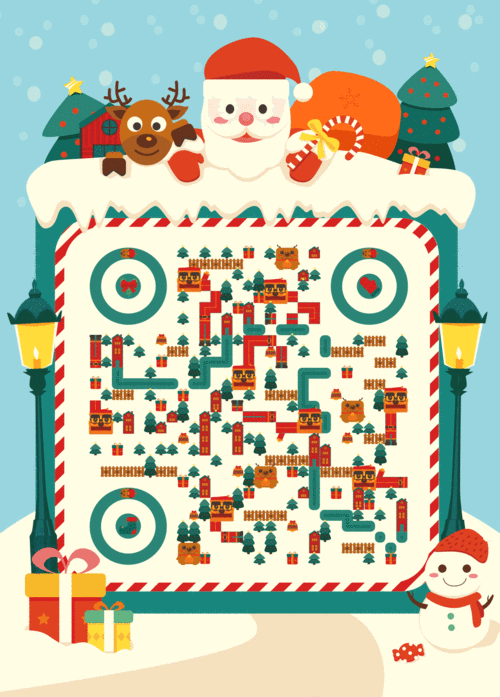QRCode: (74, 238, 424, 575)
